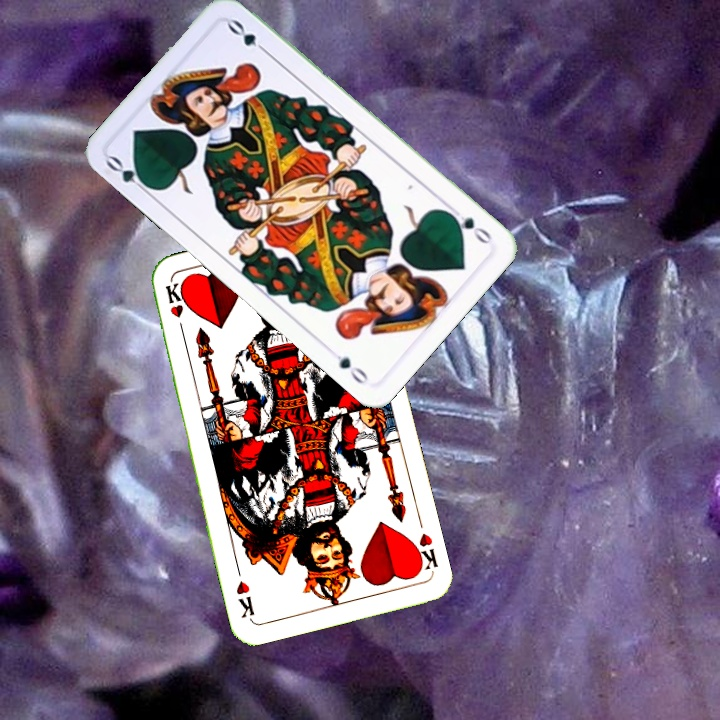GO: (102, 151, 156, 198), (443, 207, 495, 248)
HK: (161, 278, 188, 338), (408, 529, 441, 576)
